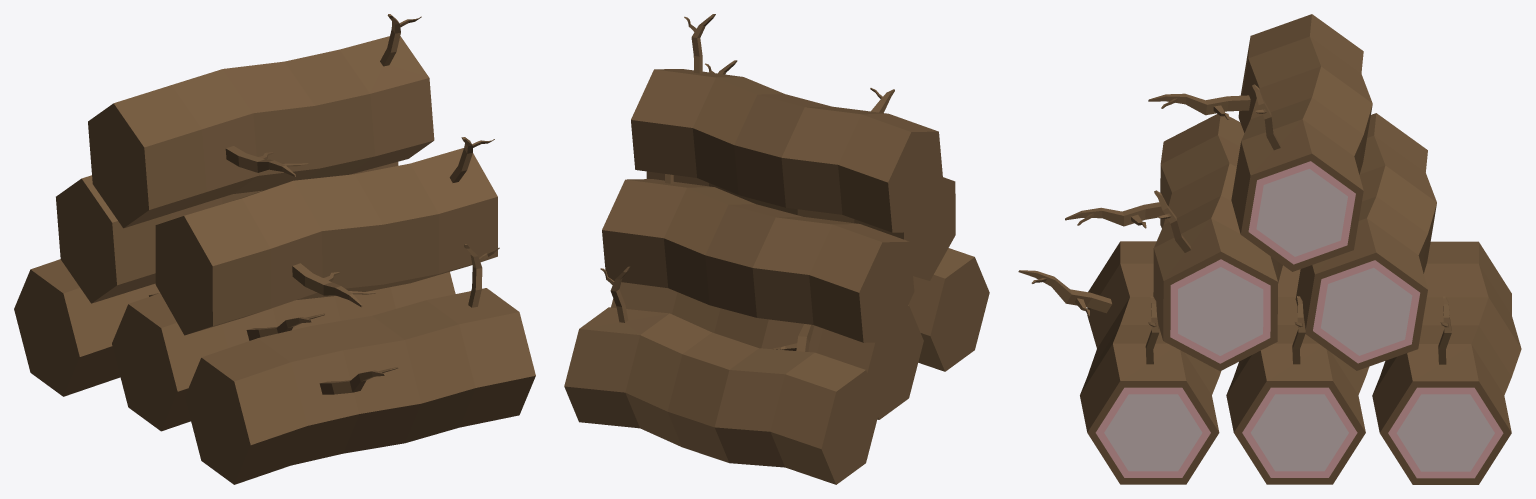
3 views of the same model, side by side, from view 1: azimuth 30°, elevation 25°; view 2: azimuth 150°, elevation 25°; view 3: azimuth 270°, elevation 25° (orthographic). The views are drawn at different scales.
Visible parts, largest first — view 1: 木桩.002; view 2: 木桩.002; view 3: 木桩.002.
Part boxes in pixels (x1,y1,x2,y2): 木桩.002: (14,14,535,484); 木桩.002: (564,14,989,484); 木桩.002: (1018,14,1521,484).
Size of the model in its own units: 94.15 by 110 by 132.
